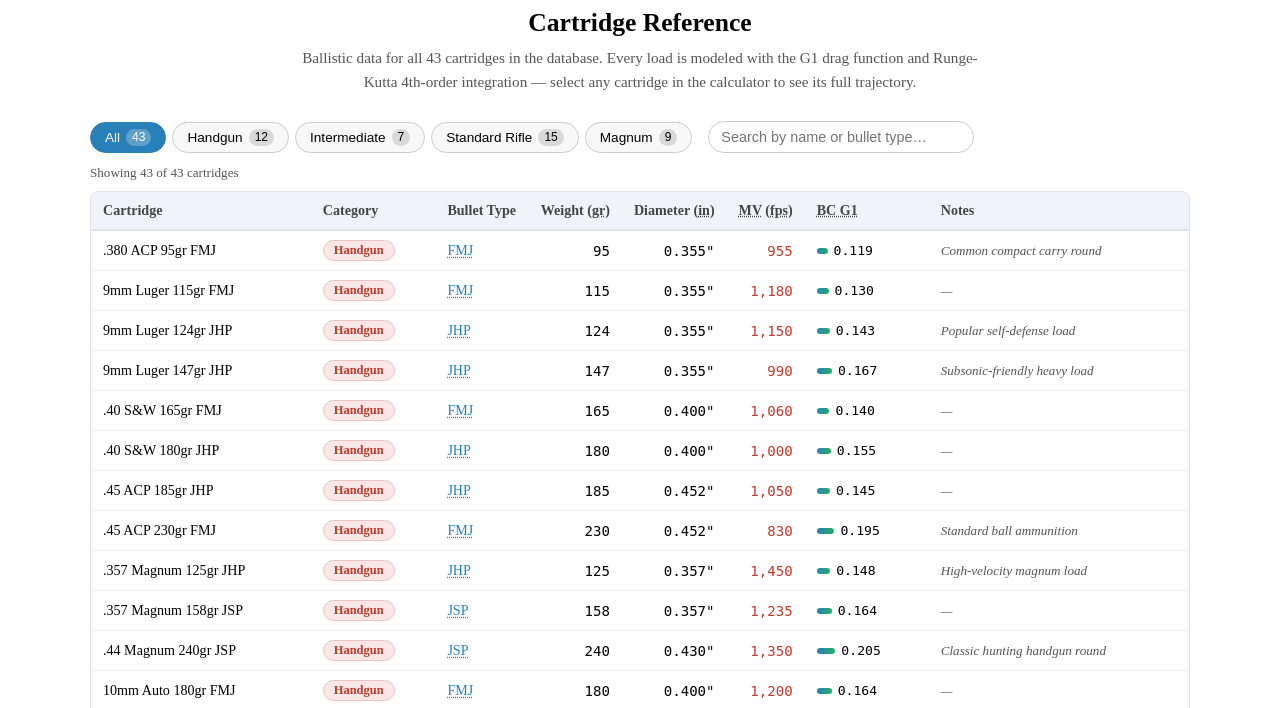
Test: CartridgeReference › filters by Magnum category
What coordinates should you click on to do the following:
click the button "Magnum 9"
I would click on:
 (639, 137)
Its box is [585,122,692,152].
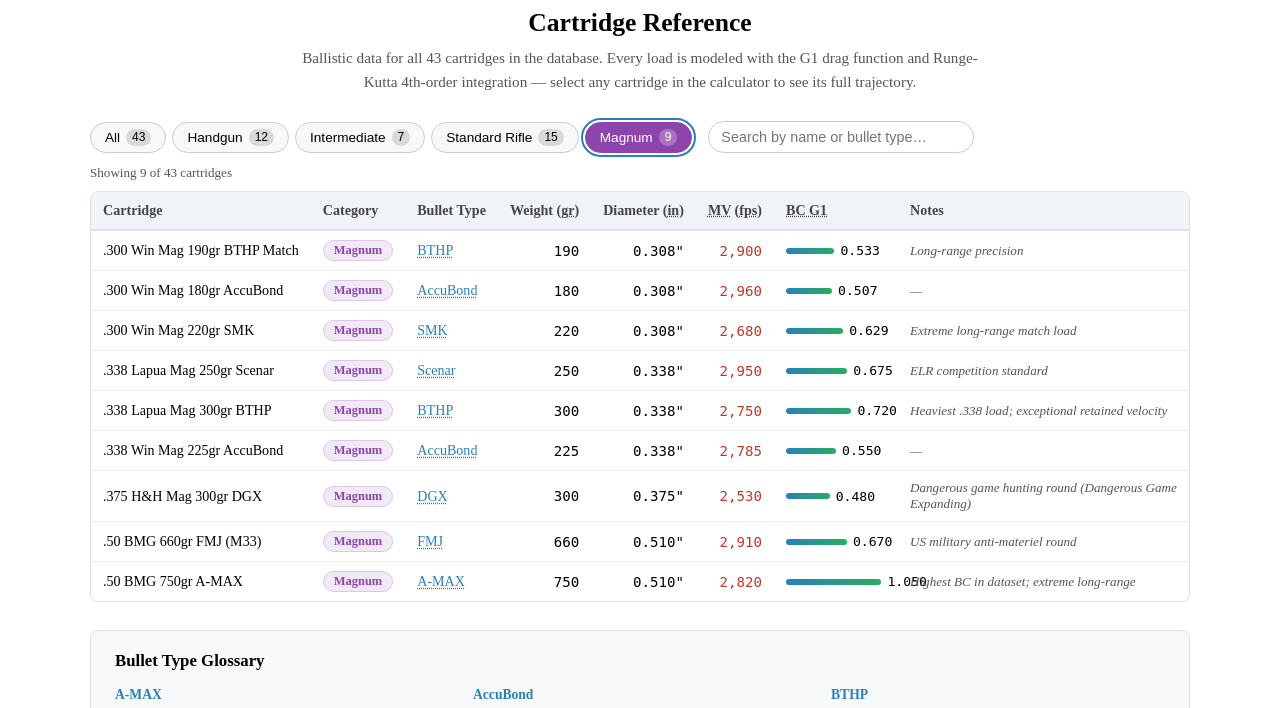
Expected: the text ".50 BMG 750gr A-MAX" is shown, [91,562,311,601]
Now the text "Showing 9 of 43 cartridges" is shown, box [90,165,232,180]
